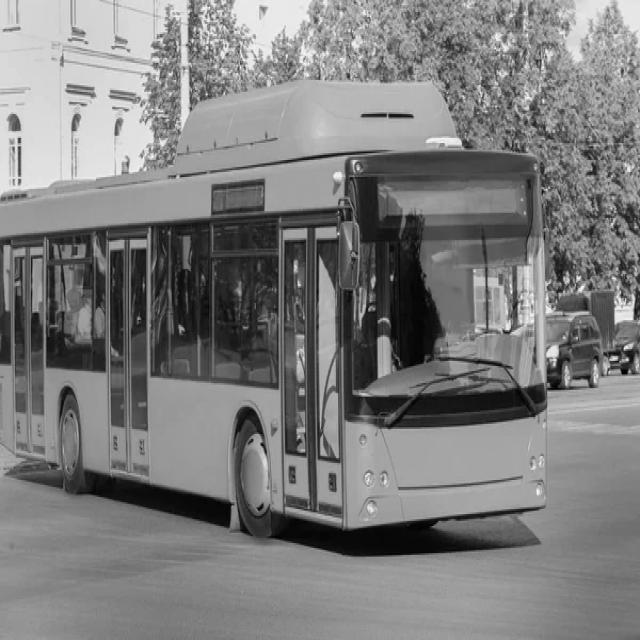Bus: (0, 78, 550, 536), (547, 312, 605, 388)
